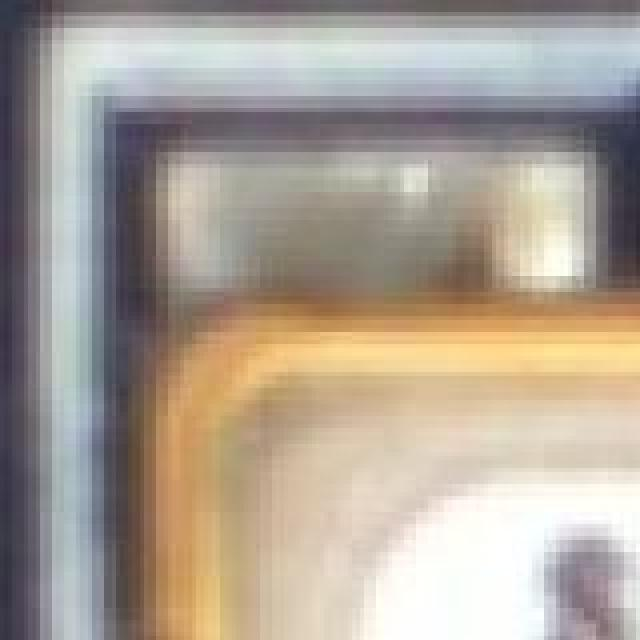clock: (120, 156, 640, 640)
